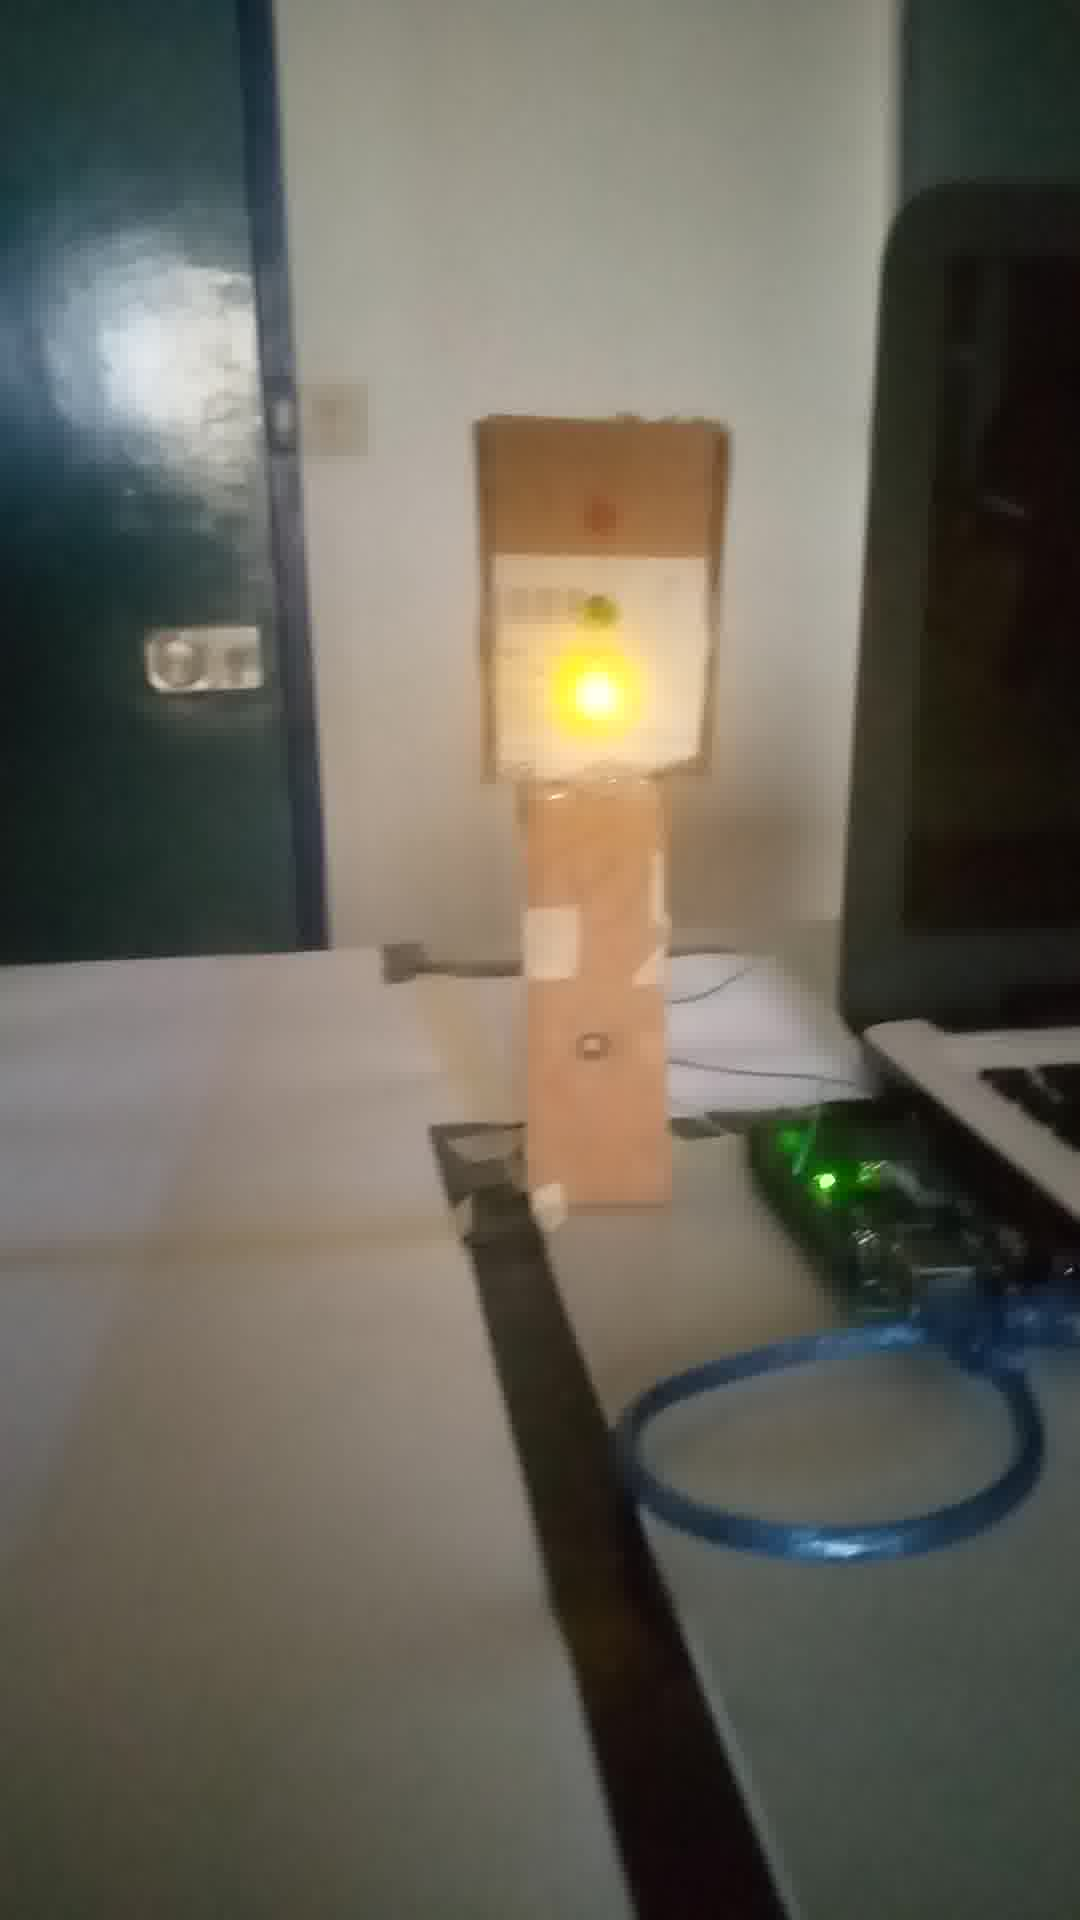green: (484, 419, 724, 794)
